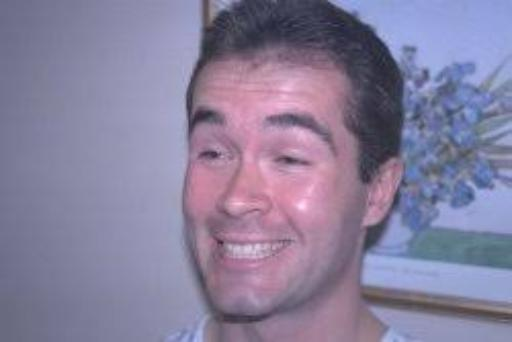left_eye: (270, 155, 318, 172)
left_lip_corner: (279, 235, 302, 247)
right_lip_corner: (197, 148, 231, 164), (206, 233, 227, 248)
